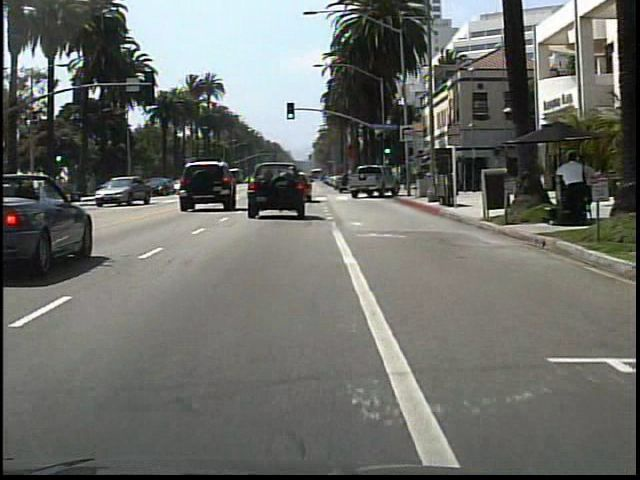person: (553, 150, 585, 230), (575, 153, 602, 229)
